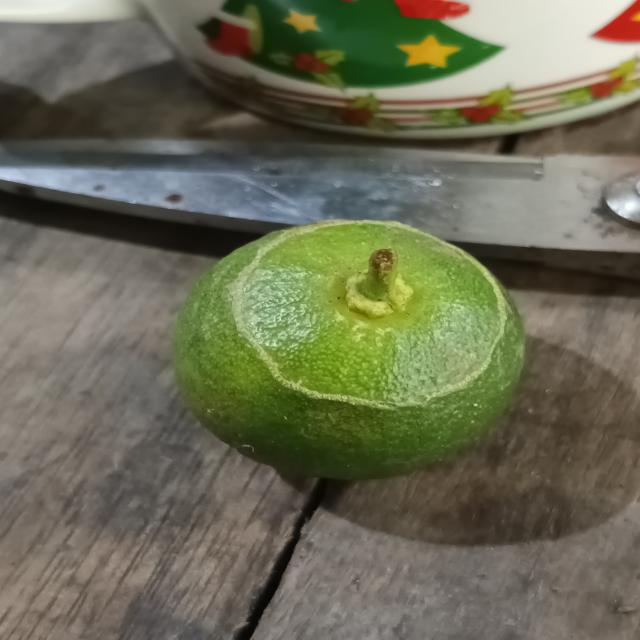thrips: (174, 219, 536, 483)
